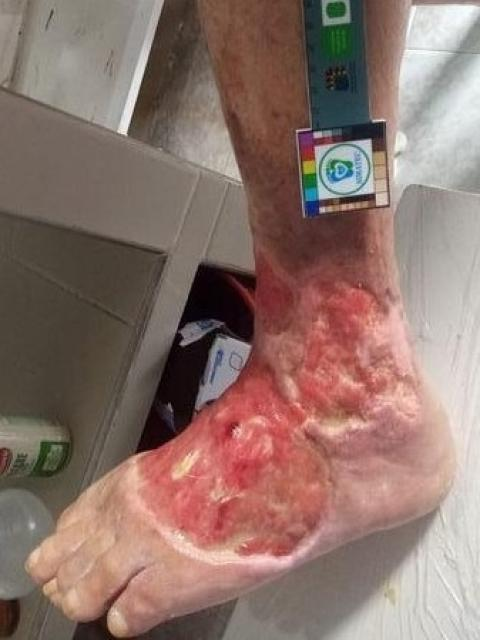wound: (129, 247, 426, 566)
